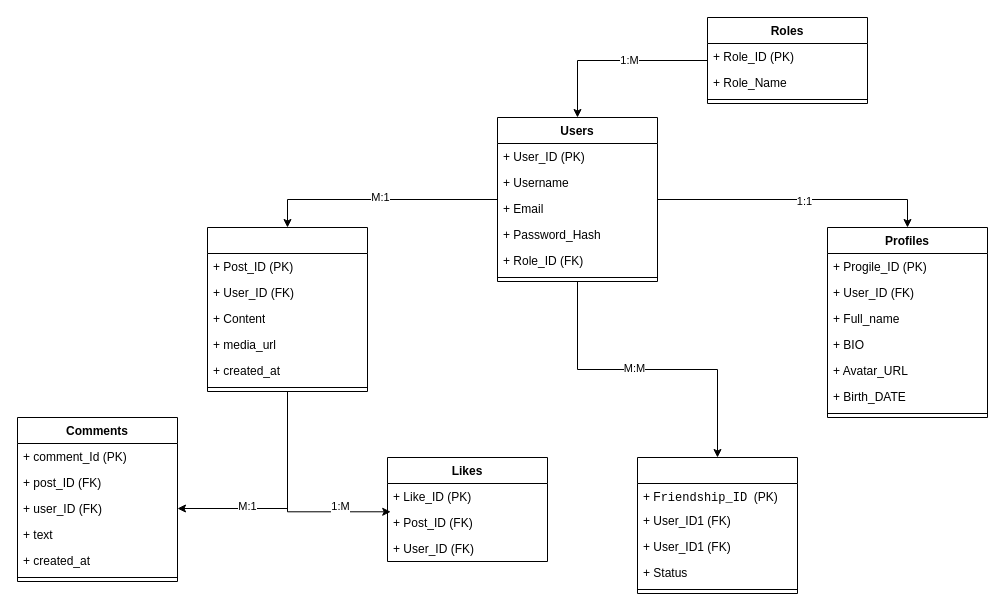
Some shapes in this 1005 by 611 pixel diagram are drawn without their labels. Each missing label, with the box of its shape:
Friendships: (636, 456, 798, 594)
Posts: (206, 226, 368, 392)
